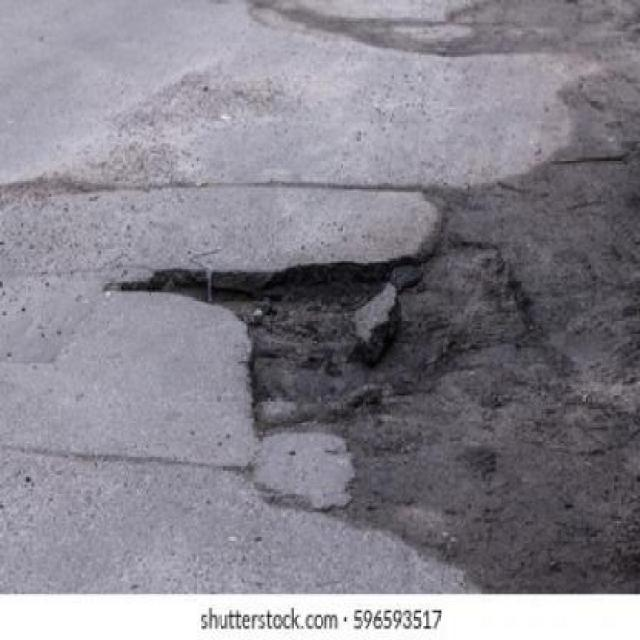Pothole: (119, 238, 527, 434)
